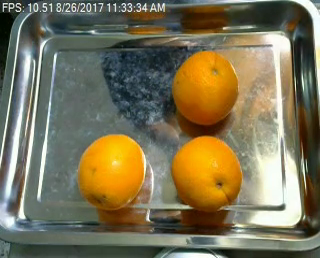Orange: (169, 135, 242, 210), (77, 134, 146, 209), (171, 50, 239, 124)
